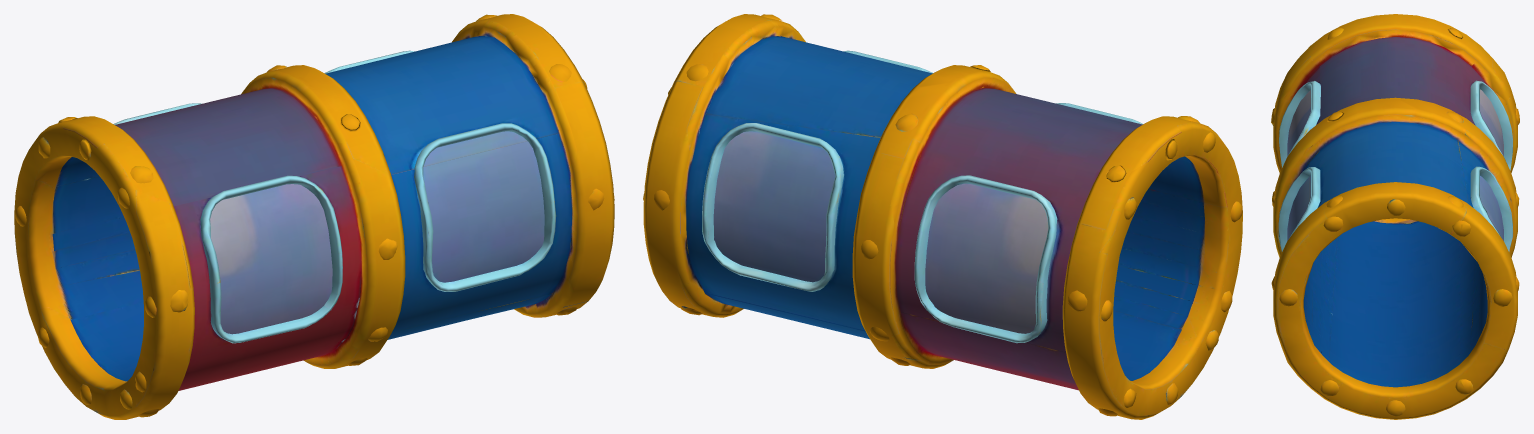
File: tube_tunnel.glb
The picture shows the model from 3 angles, left to right: view 1: azimuth 30°, elevation 25°; view 2: azimuth 150°, elevation 25°; view 3: azimuth 270°, elevation 25°; orthographic projection. The views are drawn at different scales.
Size of what is drawn, in the model's own units: 1.75 by 1 by 0.9892.
Materials: 1 (1 with a texture image).
